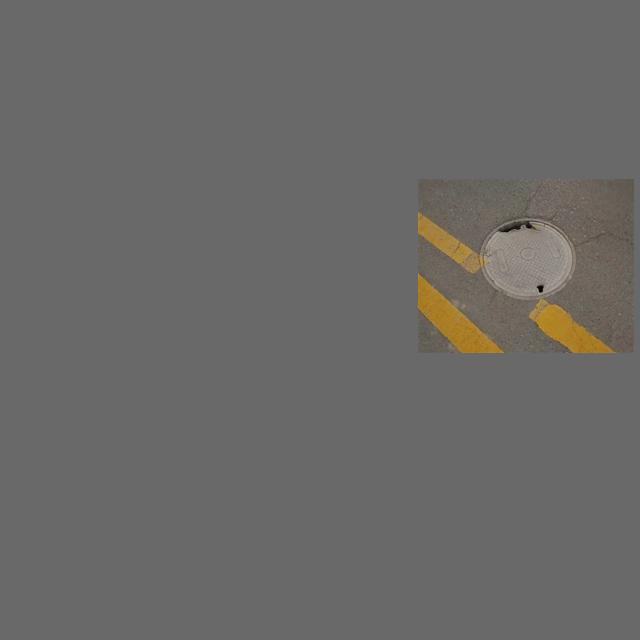broke: (474, 213, 579, 303)
